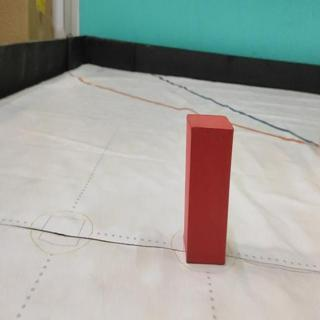redbox: (183, 111, 234, 266)
